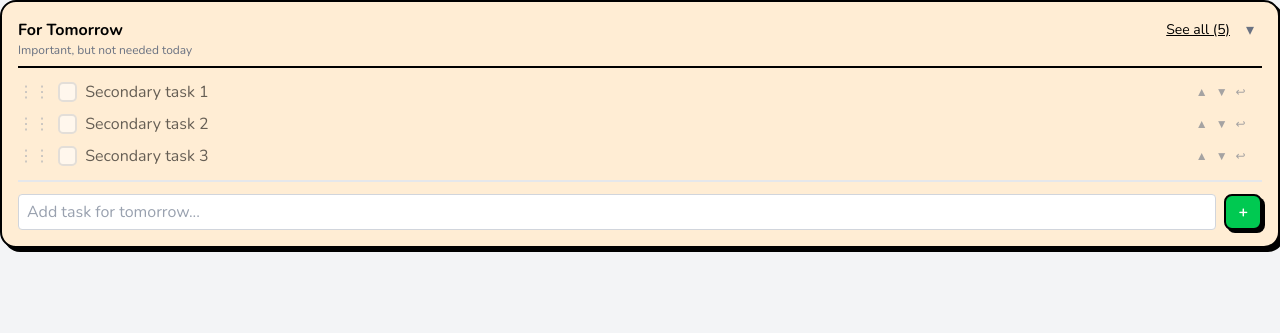
Scenario: TopPriorities › shows only three secondary tasks until See all is selected
Expected: the text "Secondary task 3" is shown, top-left (85, 145), bottom-right (209, 167)
Expected: the text "Secondary task 4" is not shown
Click the button "See all (5)": (1198, 30) top-left (1166, 20), bottom-right (1230, 40)
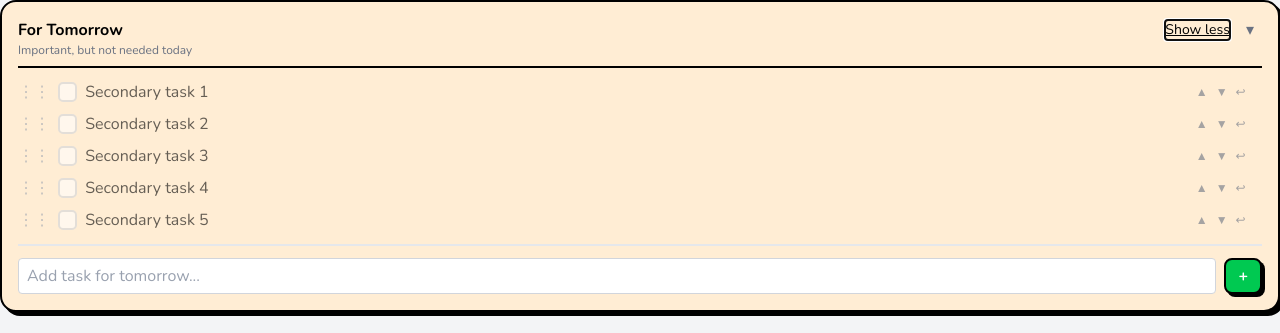
Result: the text "Secondary task 4" is shown at top-left (85, 177), bottom-right (209, 199)
